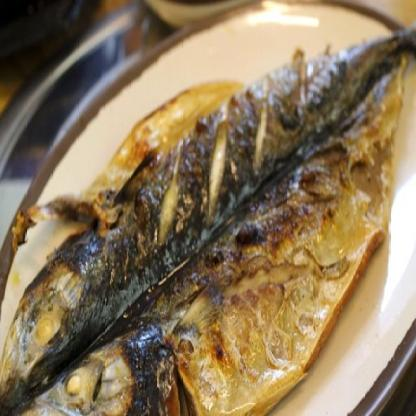Peixe: (0, 15, 416, 416)
